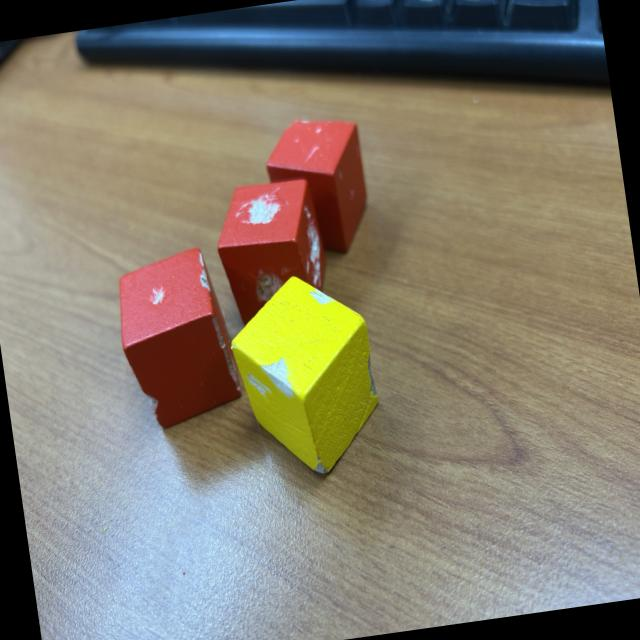broken: (222, 266, 390, 488), (109, 243, 246, 434), (210, 176, 334, 328), (260, 111, 376, 265)
